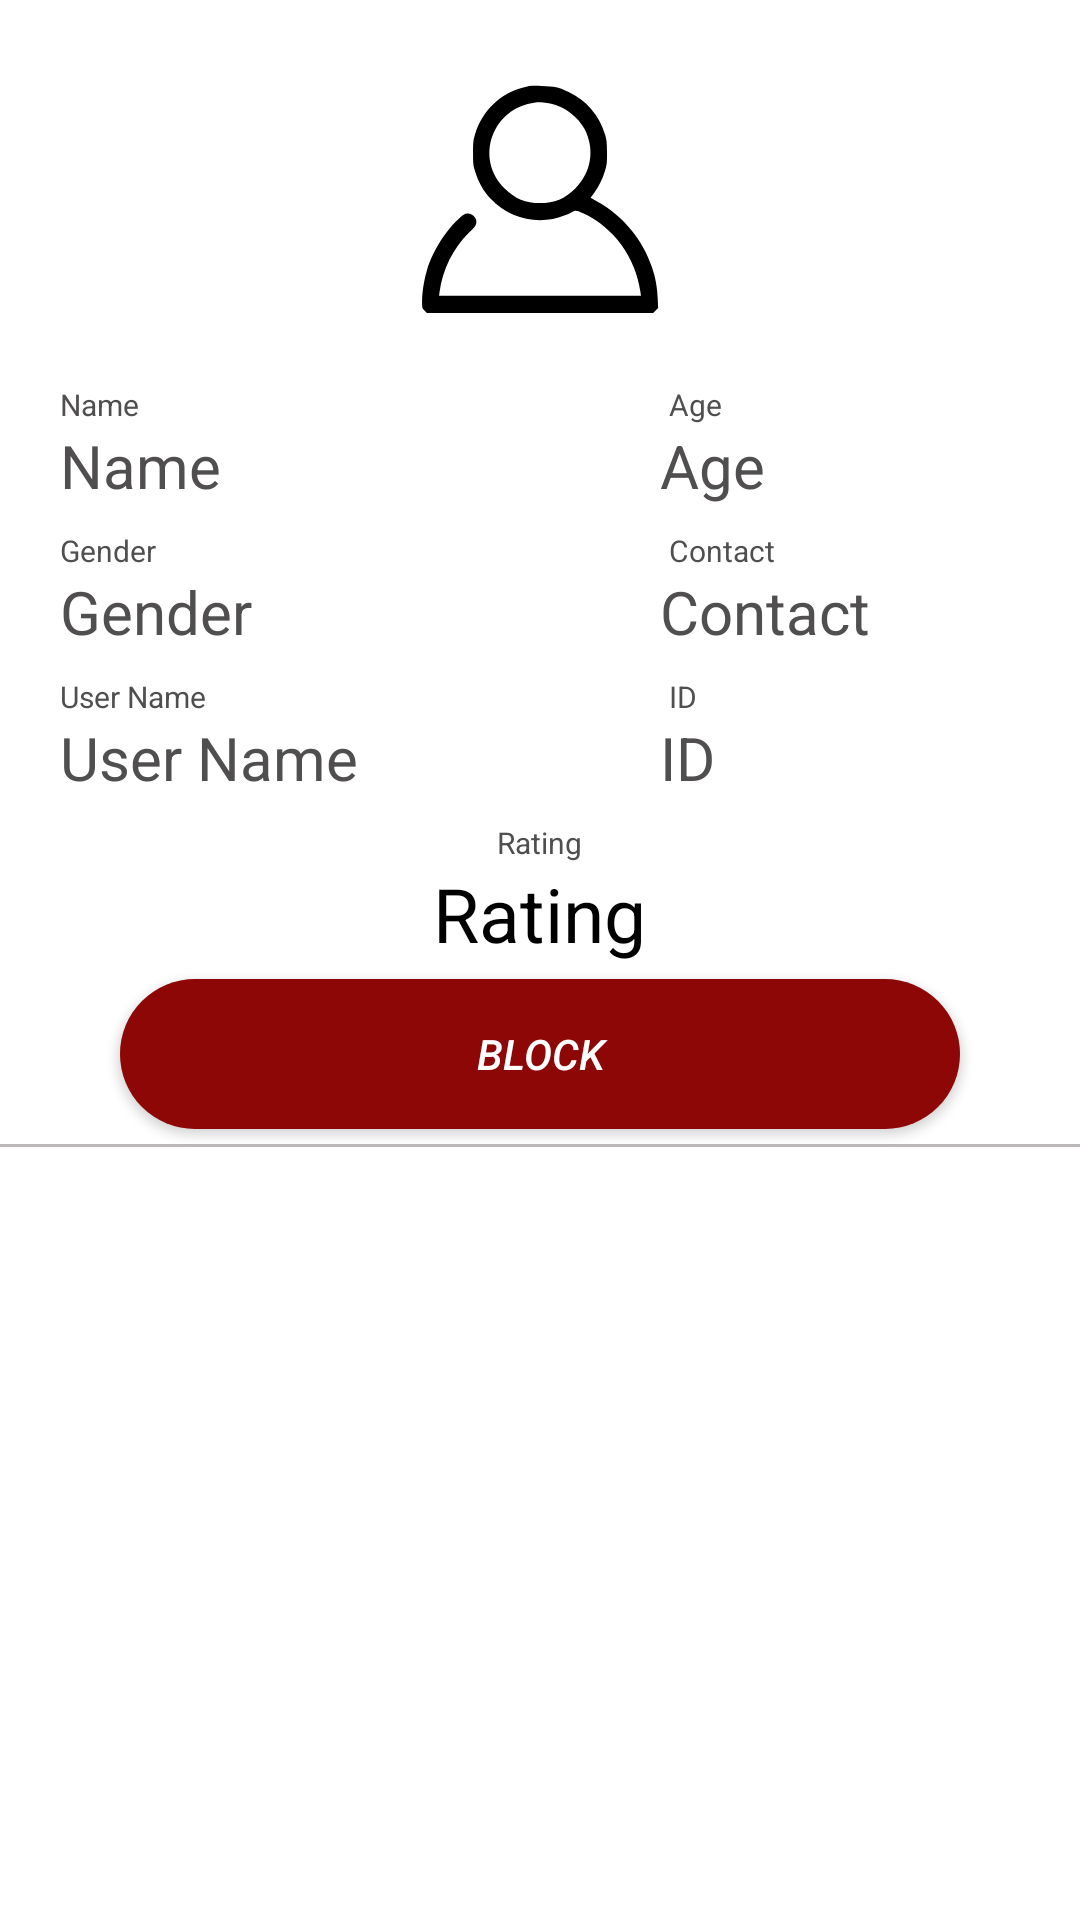

Screen size 1080x1920. Icon name, then its center in pixels as [x,y]:
profile: [540,199]
